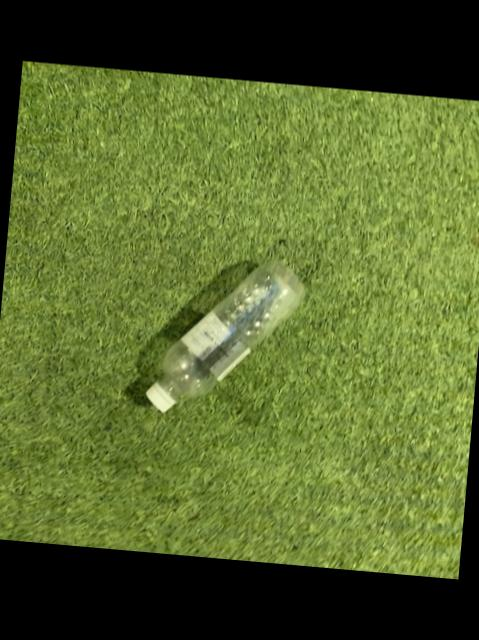plastic: (147, 260, 305, 410)
